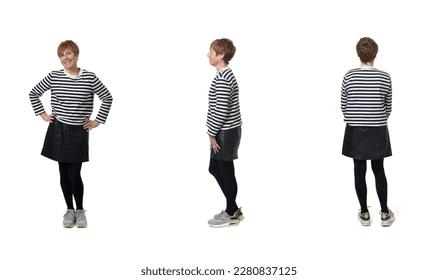skirt: (40, 116, 90, 162), (341, 123, 394, 159), (210, 126, 242, 161)
sweater: (27, 69, 114, 126), (339, 67, 394, 128), (205, 67, 243, 136)
